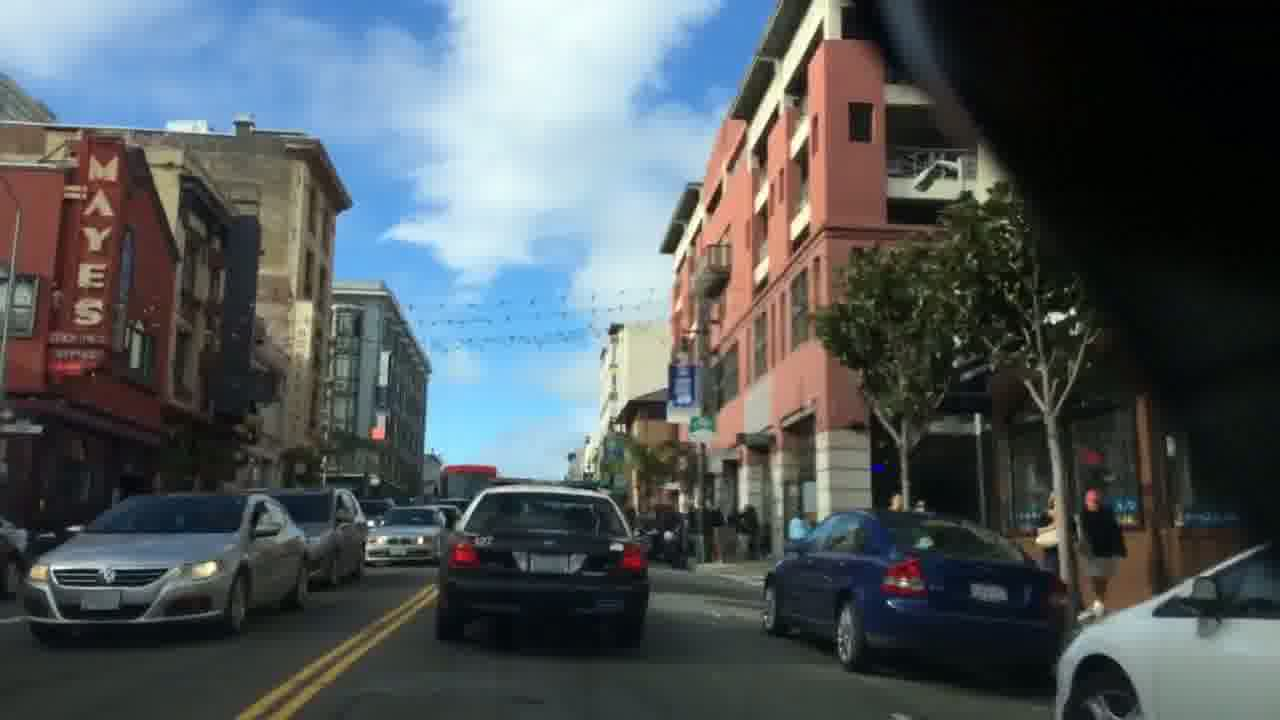car: (760, 506, 1071, 676), (20, 489, 311, 648), (1049, 534, 1280, 720), (435, 482, 650, 655), (268, 488, 367, 588), (363, 505, 448, 567)
pedestrian: (1076, 486, 1126, 618), (1036, 488, 1059, 575), (737, 503, 759, 561), (785, 506, 810, 541)
